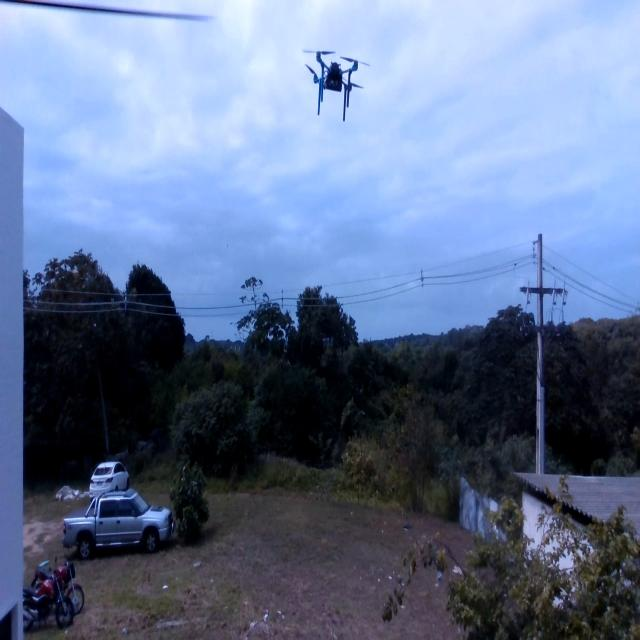-uav-: (295, 35, 374, 132)
